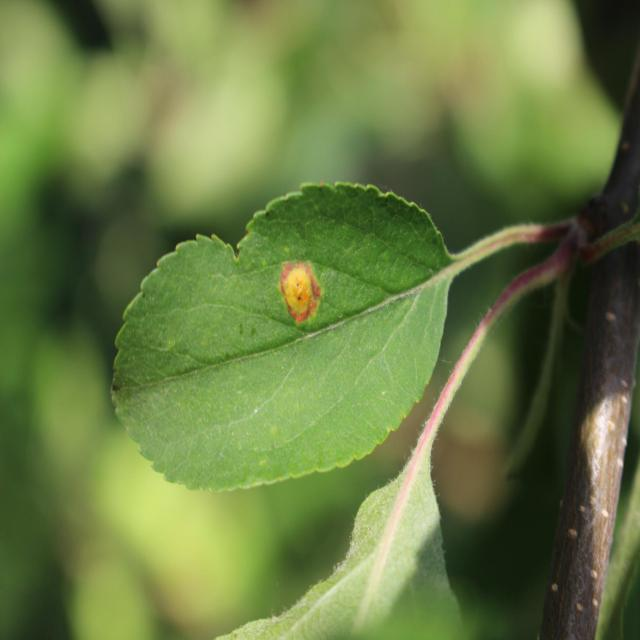Rust: (276, 253, 326, 339)
